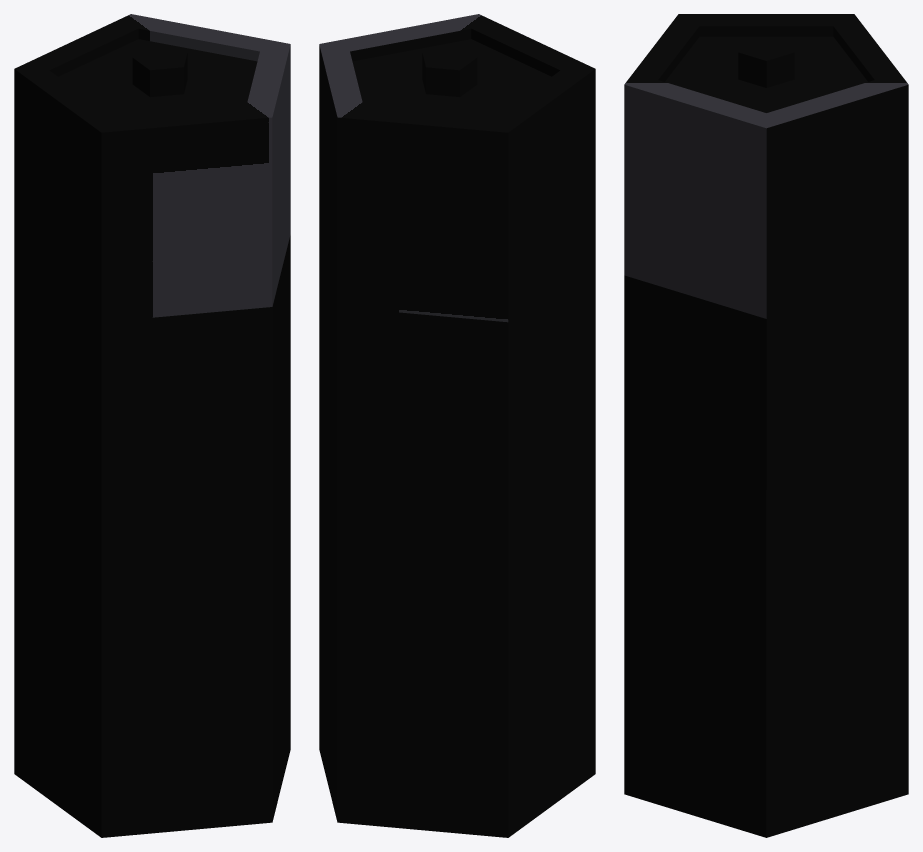
File: Battery1.FBX
The picture shows the model from 3 angles, left to right: view 1: azimuth 30°, elevation 25°; view 2: azimuth 150°, elevation 25°; view 3: azimuth 270°, elevation 25°; orthographic projection.
Parts seen in each view (by area): view 1: Battery1; view 2: Battery1; view 3: Battery1.
Boxes of the visible parts, x1,y1,x2,y2 form: Battery1: [14, 14, 290, 837]; Battery1: [319, 14, 595, 837]; Battery1: [624, 14, 908, 837].
Bounding box in the file's own units: 9.4 × 27.83 × 9.88.
